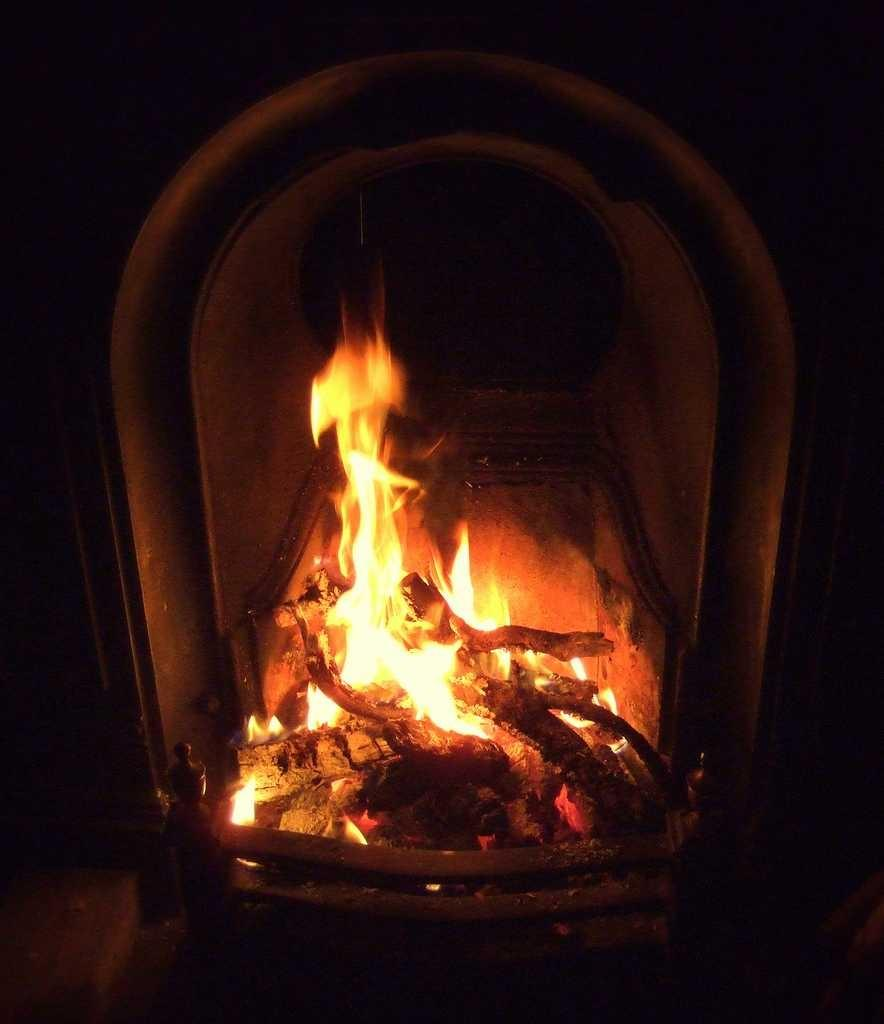fire: (344, 475, 404, 634), (317, 359, 412, 457), (351, 646, 467, 703)
